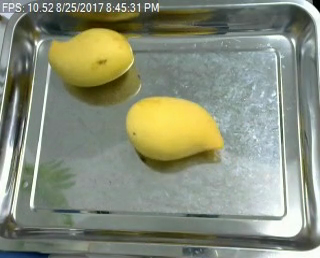Mango: (120, 91, 221, 163), (44, 20, 140, 89)
